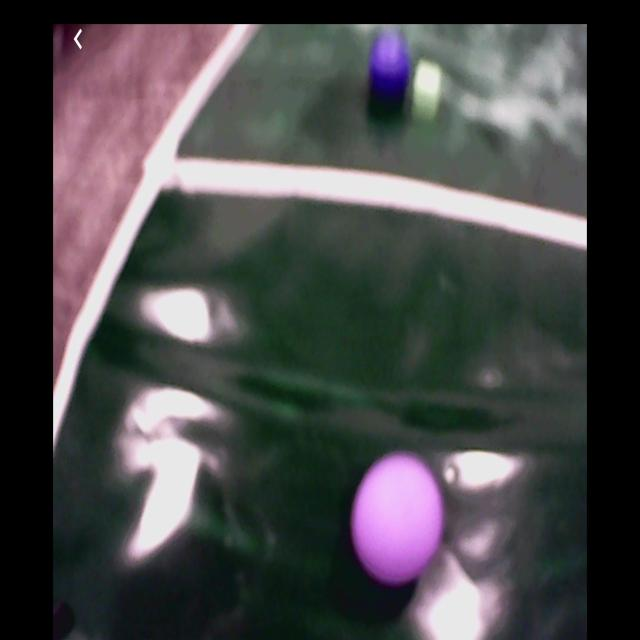ball: (354, 452, 445, 585), (368, 36, 410, 101)
